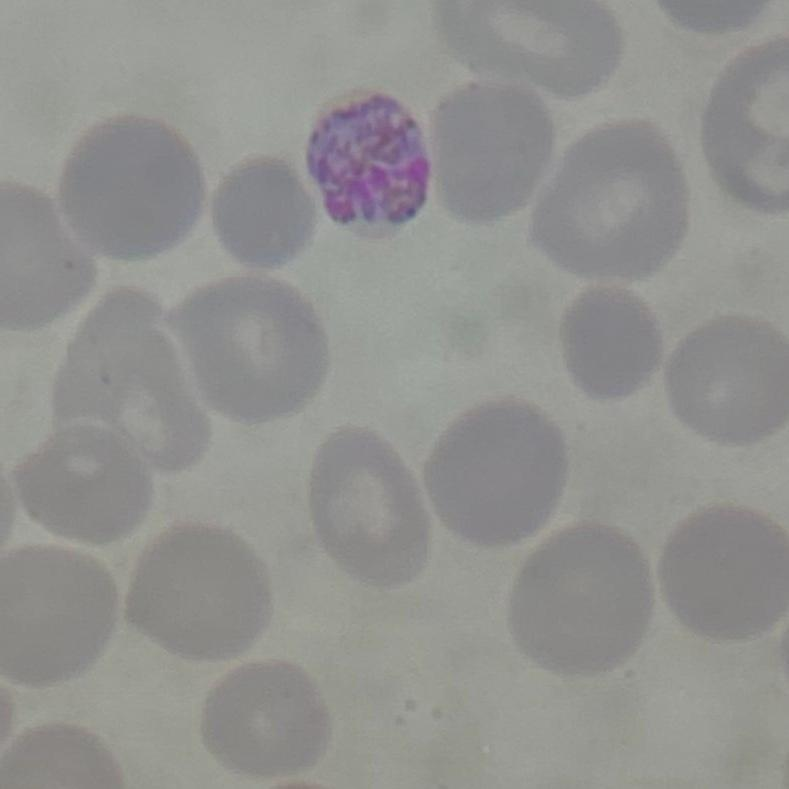Infected: (306, 85, 429, 236)
Uninfected: (46, 285, 206, 473), (526, 121, 690, 286), (510, 521, 655, 680), (122, 519, 277, 662), (58, 115, 206, 264), (170, 273, 321, 417), (312, 421, 426, 594), (430, 401, 565, 545), (440, 0, 623, 105), (0, 537, 119, 691), (662, 505, 789, 646), (668, 309, 787, 452), (434, 83, 554, 221), (16, 425, 147, 548), (706, 41, 789, 220), (202, 661, 327, 779), (0, 181, 90, 333), (214, 153, 317, 270), (566, 285, 666, 404)
